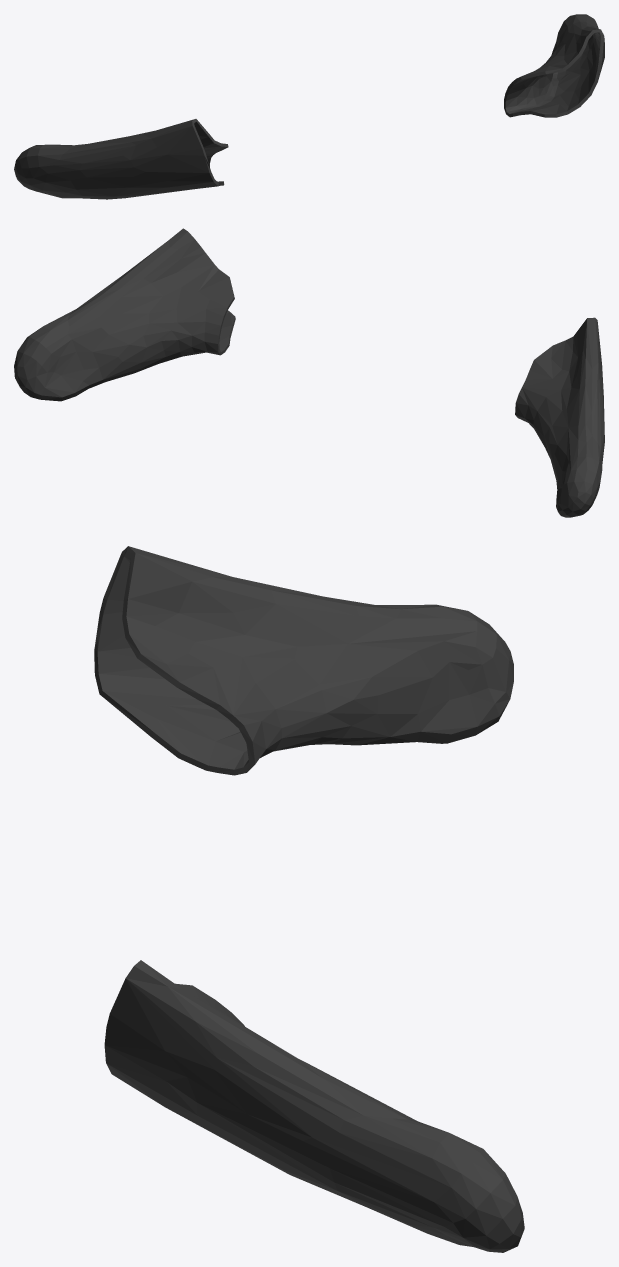
File: c2_transverse_process.glb
3 views of the same model, one above another, from view 1: azimuth 30°, elevation 25°; view 2: azimuth 150°, elevation 25°; view 3: azimuth 270°, elevation 25° (orthographic). The views are drawn at different scales.
Parts seen in each view (by area): view 1: c2_transverse_process; view 2: c2_transverse_process; view 3: c2_transverse_process.
Part boxes in pixels (x1,y1,x2,y2): c2_transverse_process: (14, 14, 604, 199); c2_transverse_process: (14, 228, 604, 517); c2_transverse_process: (94, 546, 524, 1252).
Bounding box in the file's own units: 46.07 × 9.87 × 14.89.
Materials: 1 (1 with a texture image).
